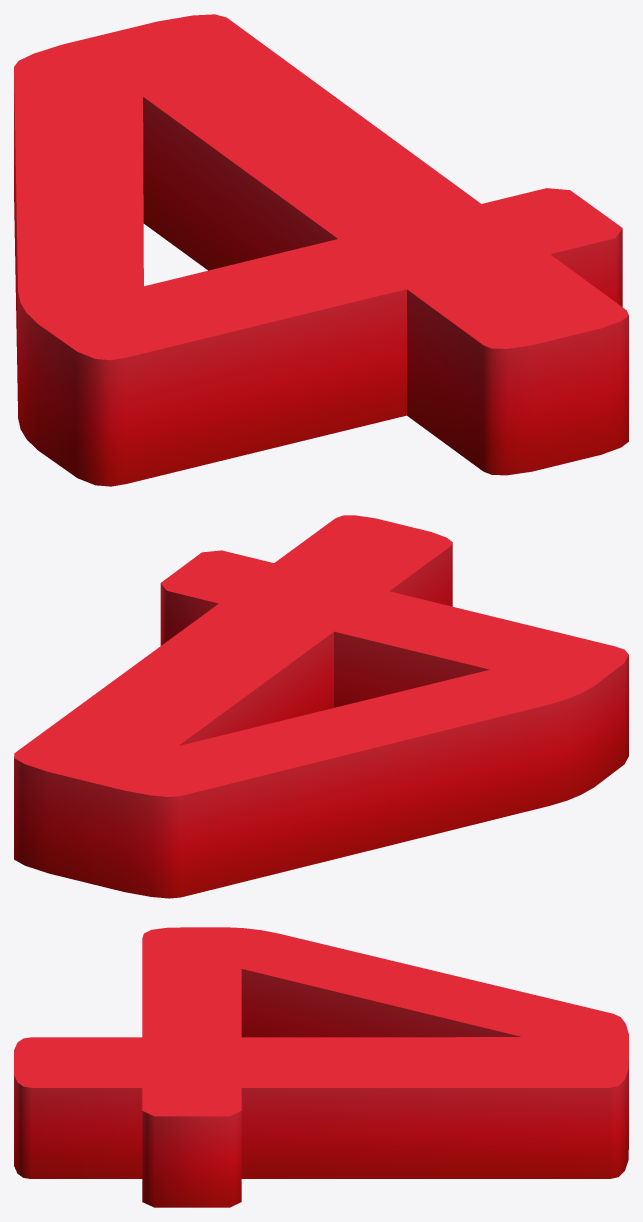
The model's file is figure_4.fbx.
3 views of the same model, one above another, from view 1: azimuth 30°, elevation 25°; view 2: azimuth 150°, elevation 25°; view 3: azimuth 270°, elevation 25° (orthographic). The views are drawn at different scales.
Visible parts, largest first — view 1: figure_4; view 2: figure_4; view 3: figure_4.
Part boxes in pixels (x1=…): figure_4: x1=14, y1=14, x2=628, y2=486; figure_4: x1=14, y1=515, x2=628, y2=898; figure_4: x1=14, y1=927, x2=628, y2=1207.
Size of the model in its own units: 16.67 by 3.75 by 22.89.
